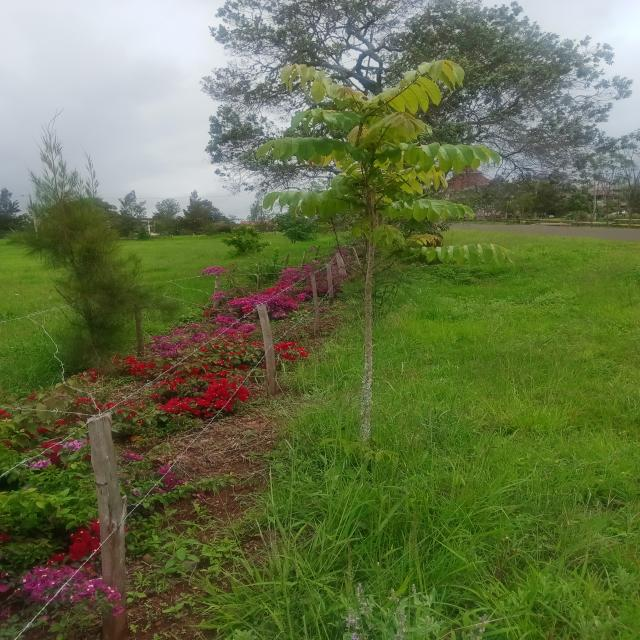Polyscias Kikuyensis: (255, 54, 519, 454)
